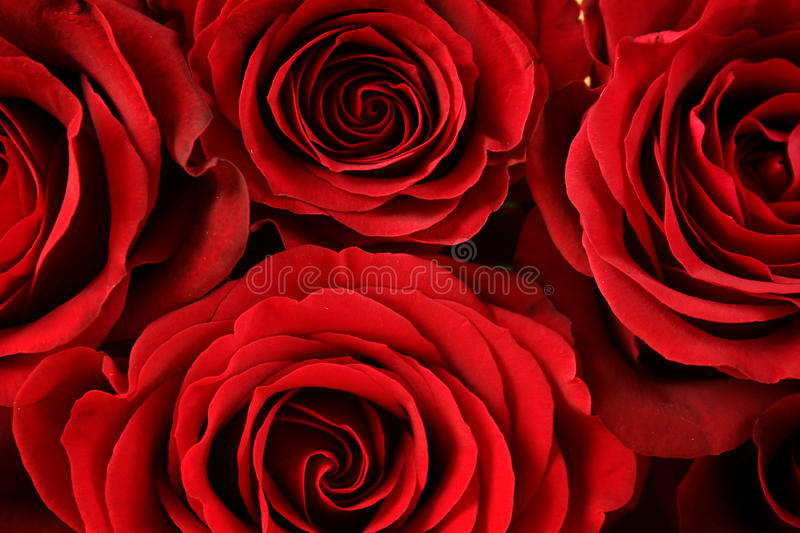RedRose: (161, 269, 544, 533), (211, 0, 525, 237), (603, 26, 800, 338), (0, 52, 130, 336)
